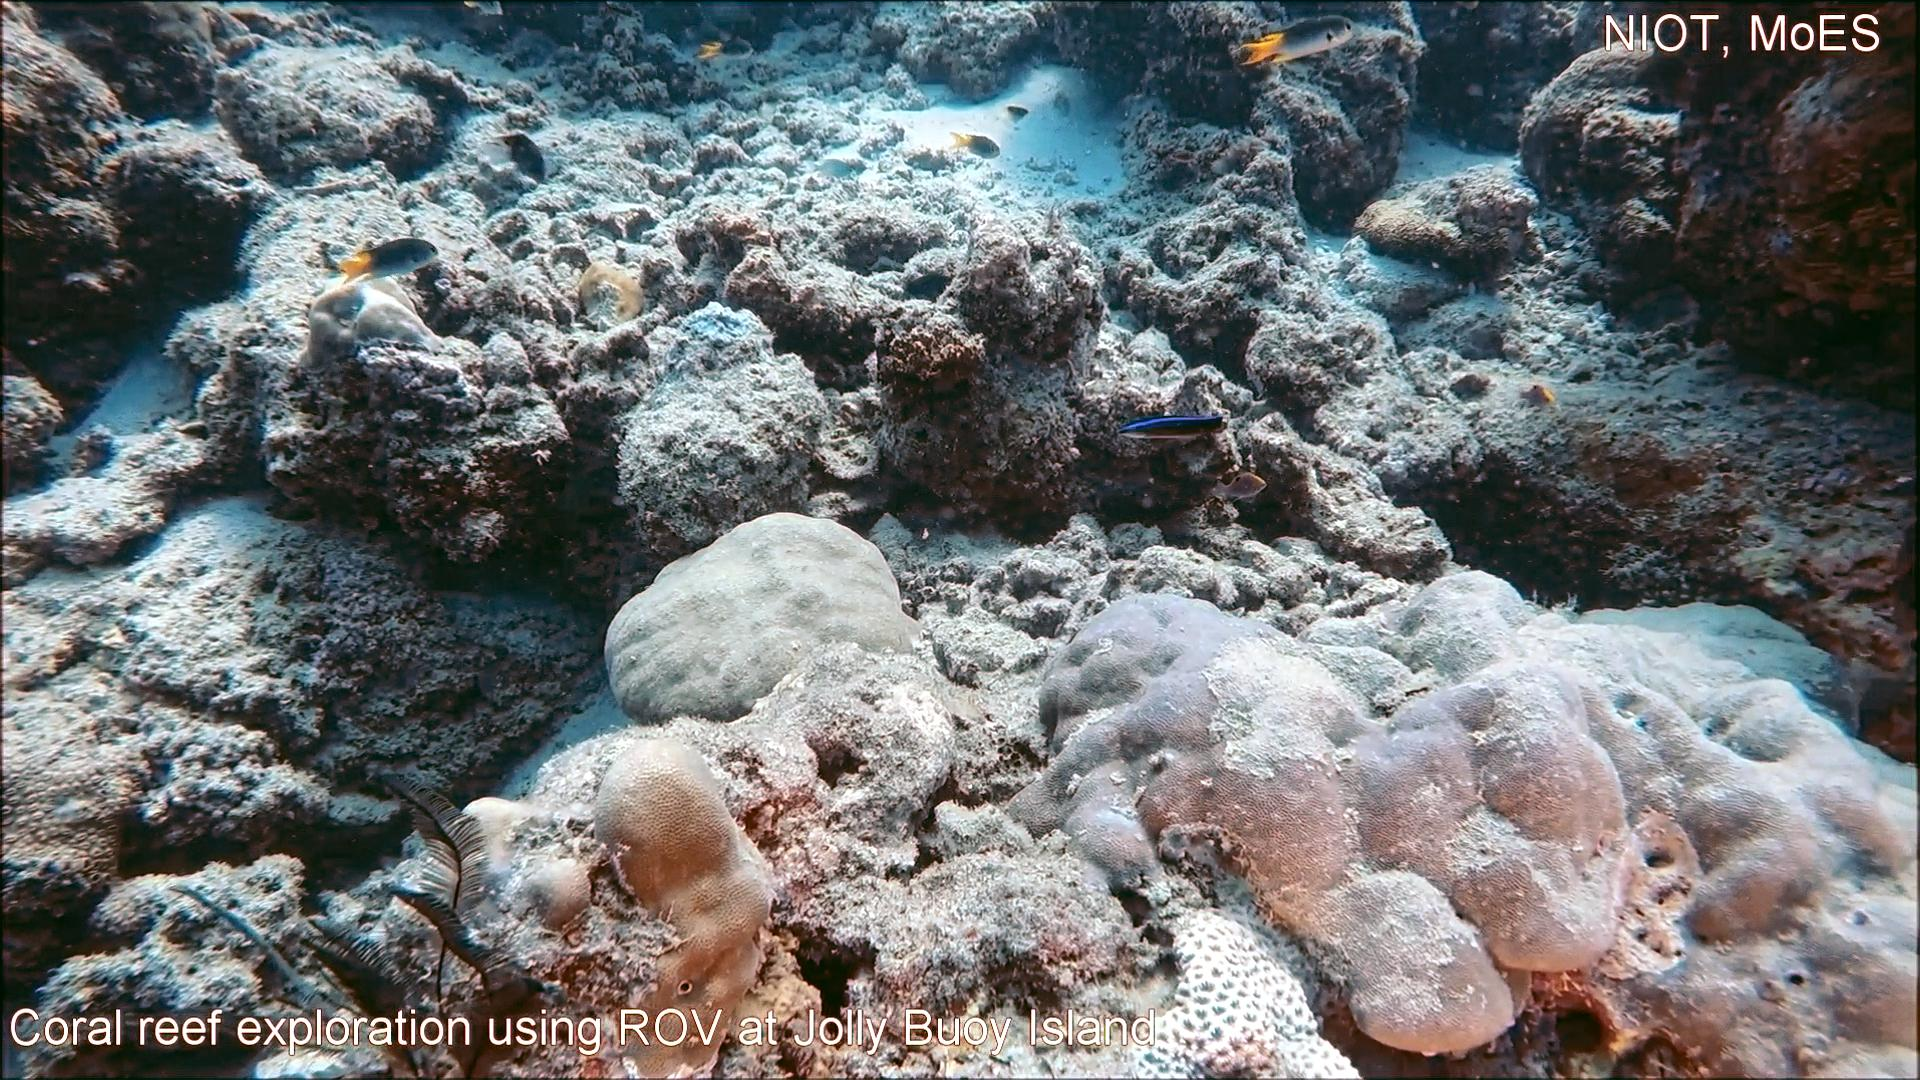Feather star-Crinoid star: (154, 766, 585, 1080)
Goniastrea-Goniastrea pectinata: (1110, 898, 1375, 1080)
Porites-Porites pukoensis: (1473, 563, 1920, 1080)
Turbinaria-Turbinaria stellulata: (0, 719, 145, 905)
